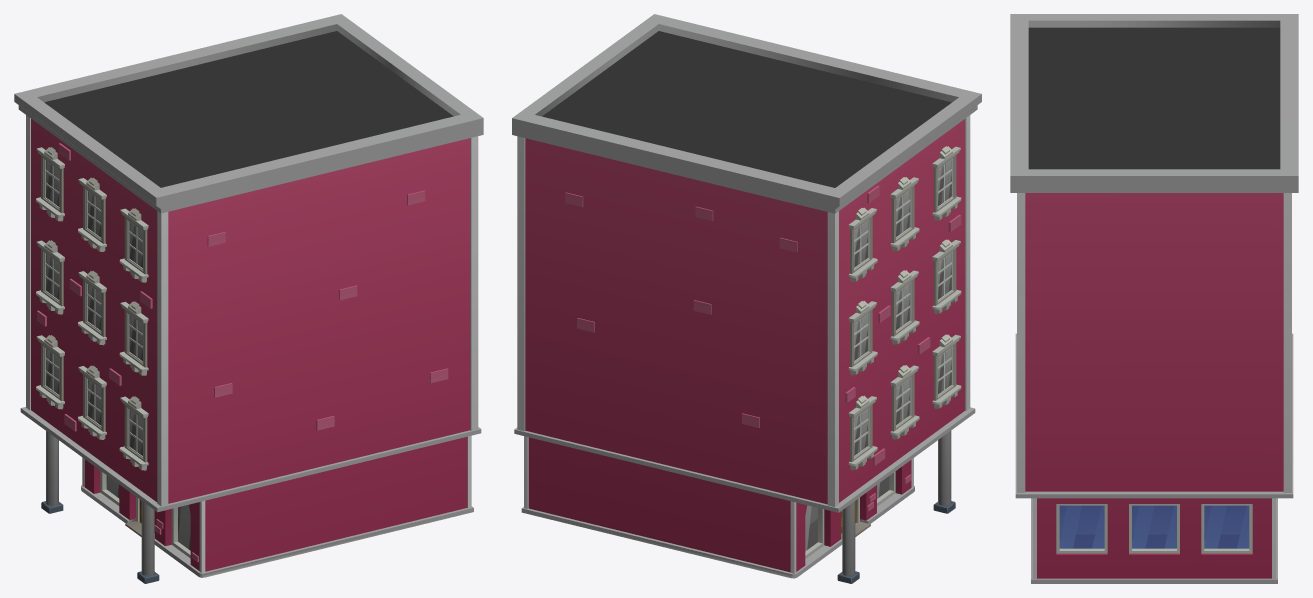
Rendered from Building_4_C.glb.
3 views of the same model, side by side, from view 1: azimuth 30°, elevation 25°; view 2: azimuth 150°, elevation 25°; view 3: azimuth 270°, elevation 25° (orthographic).
Visible parts, largest first — view 1: Building_4_C; view 2: Building_4_C; view 3: Building_4_C.
Boxes of the visible parts, bbox=[...] form: Building_4_C: bbox=[14, 14, 483, 583]; Building_4_C: bbox=[512, 14, 981, 583]; Building_4_C: bbox=[1010, 14, 1298, 583].
Bounding box in the file's own units: 15.85 × 18.55 × 11.91.
3 materials, 3 textured.
